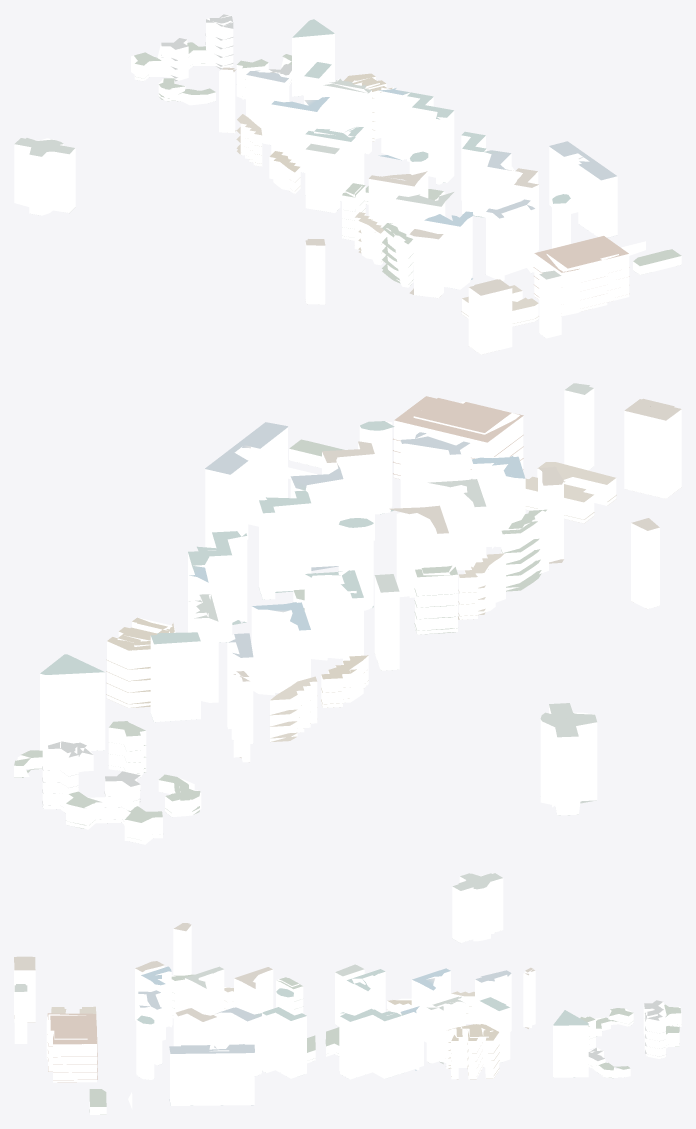
Rendered from buildings--7_-1-coarse.glb.
3 views of the same model, one above another, from view 1: azimuth 30°, elevation 25°; view 2: azimuth 150°, elevation 25°; view 3: azimuth 270°, elevation 25° (orthographic). The views are drawn at different scales.
Visible parts, largest first — view 1: block_-7_-1_office, block_-7_-1_residential, block_-7_-1_roof; view 2: block_-7_-1_office, block_-7_-1_residential, block_-7_-1_roof; view 3: block_-7_-1_office, block_-7_-1_roof, block_-7_-1_residential.
Part boxes in pixels (x1,y1,x2,y2): block_-7_-1_office: (14, 33, 617, 354); block_-7_-1_residential: (131, 14, 681, 326); block_-7_-1_roof: (14, 14, 681, 323); block_-7_-1_office: (40, 388, 681, 815); block_-7_-1_residential: (14, 401, 616, 844); block_-7_-1_roof: (14, 383, 681, 828); block_-7_-1_office: (14, 873, 588, 1105); block_-7_-1_roof: (14, 873, 680, 1114); block_-7_-1_residential: (46, 974, 681, 1114).
Bounding box in the file's own units: 422 × 62.92 × 629.
